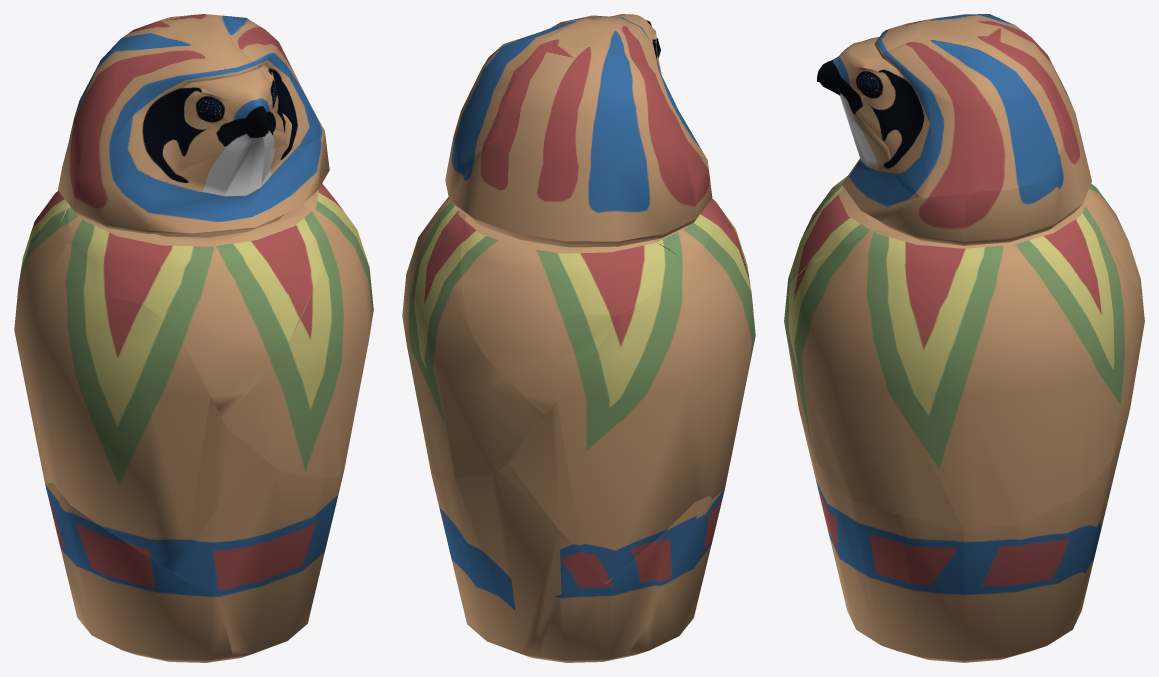
The model's file is Falcon Jar Broken.fbx.
3 renders of one model, left to right at view 1: azimuth 30°, elevation 25°; view 2: azimuth 150°, elevation 25°; view 3: azimuth 270°, elevation 25°, orthographic.
Parts seen in each view (by area): view 1: Jar.004, Lid, Jar.006, Jar.001, Jar, Jar.003, Lid.002, Jar.002, Jar.005; view 2: Jar.004, Lid, Jar.002, Jar.001, Jar, Jar.005, Lid.002, Jar.003, Jar.006; view 3: Jar.001, Jar, Lid.002, Lid, Jar.006, Jar.002.
Part boxes in pixels (x1,y1,x2,y2): Jar.004: (14,224,262,573); Lid: (58,14,329,237); Jar.006: (55,204,321,420); Jar.001: (223,183,373,478); Jar: (176,458,343,660); Jar.003: (59,491,232,662); Lid.002: (204,14,324,145); Jar.002: (34,190,68,237); Jar.005: (45,482,64,564); Jar.004: (508,227,755,584); Lid: (445,14,712,247); Jar.002: (460,216,687,415); Jar.001: (402,197,544,480); Jar: (431,463,611,660); Jar.005: (540,497,706,662); Lid.002: (453,15,596,160); Jar.003: (592,489,724,662); Jar.006: (650,198,736,264); Jar.001: (784,228,1144,531); Jar: (799,410,1129,662); Lid.002: (856,37,1064,197); Lid: (817,14,1091,245); Jar.006: (787,176,890,286); Jar.002: (1050,183,1142,294).
Size of the model in its own units: 0.2902 by 0.5273 by 0.2902.
